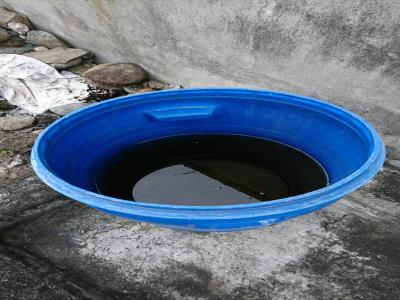bucket: (27, 84, 390, 234)
